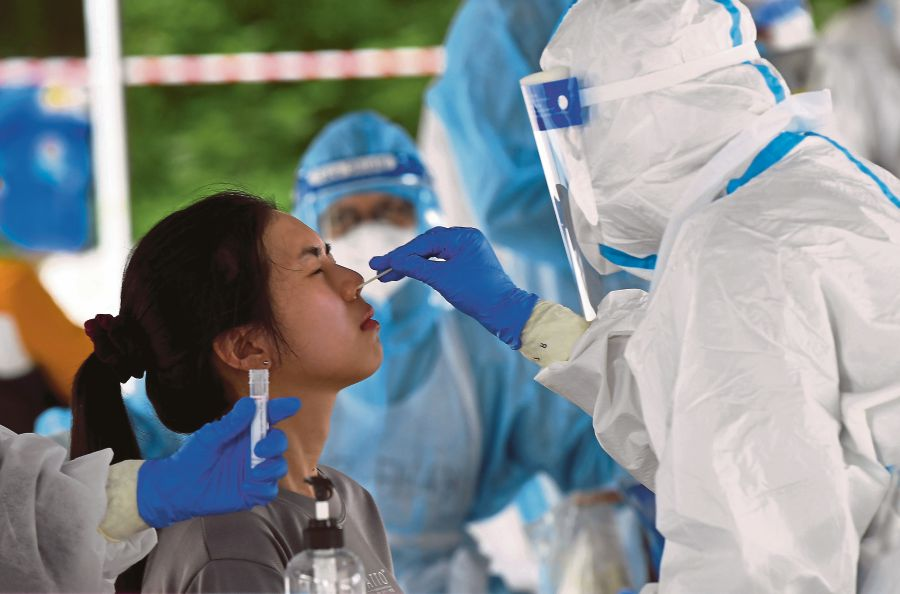Coverall: (528, 1, 900, 594)
Face_Shield: (516, 67, 626, 327)
Gloves: (130, 388, 305, 539), (367, 222, 539, 351)
without_mask: (258, 209, 390, 384)
